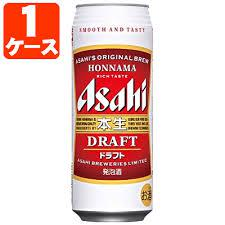beer: (69, 4, 154, 221)
